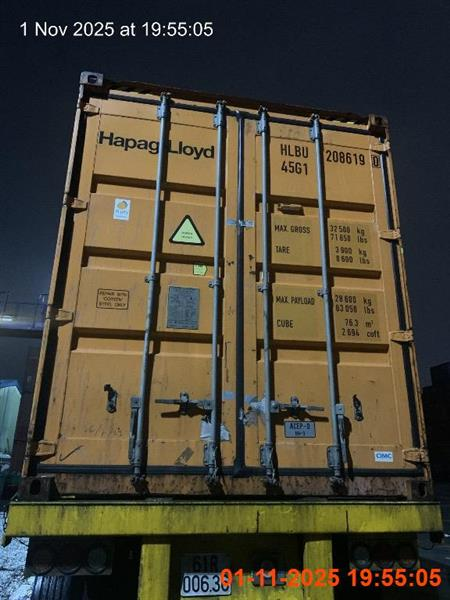bent: (1, 71, 445, 599)
